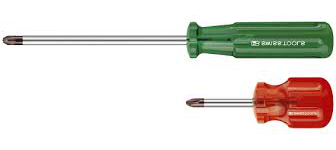Screwdriver: (1, 11, 336, 67), (176, 67, 336, 139)
